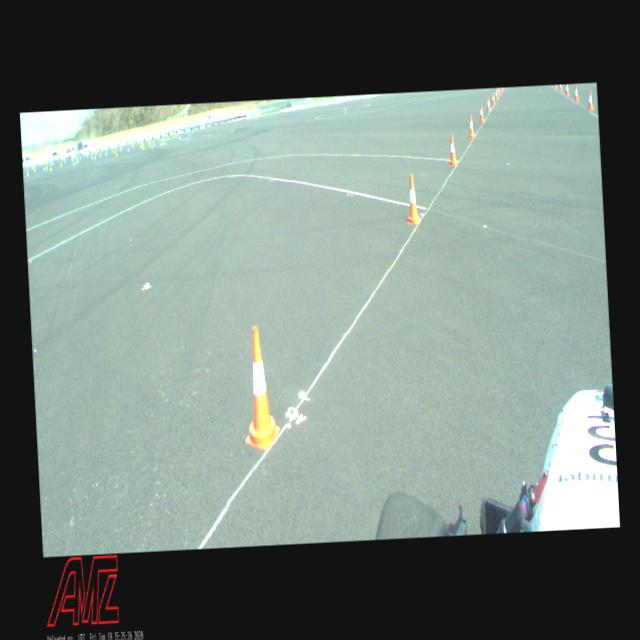orange_cone: (240, 324, 280, 450), (405, 174, 421, 224), (448, 135, 458, 165), (468, 116, 475, 138), (588, 90, 594, 110), (574, 85, 579, 102), (486, 96, 491, 112), (480, 104, 484, 122), (492, 92, 496, 105), (566, 84, 570, 96), (559, 84, 563, 91), (496, 88, 498, 100), (498, 88, 501, 95)
